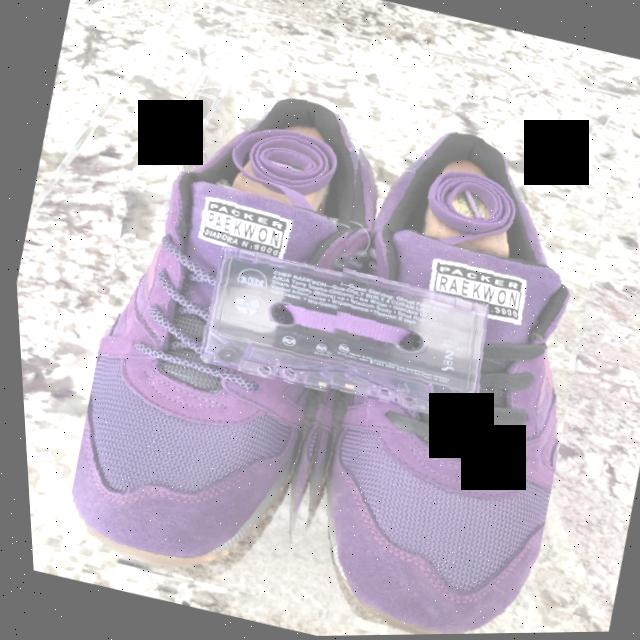shoe: (30, 45, 417, 609), (239, 99, 633, 637)
